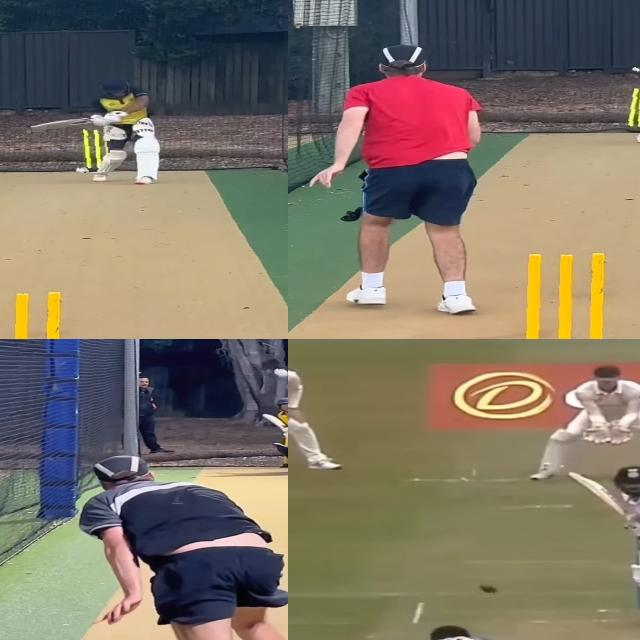Cricket ball: (477, 581, 501, 595), (272, 367, 288, 377), (75, 166, 86, 173), (630, 65, 640, 72)
Stumps: (514, 251, 625, 339), (0, 290, 81, 339), (78, 126, 110, 172), (620, 88, 640, 133)
